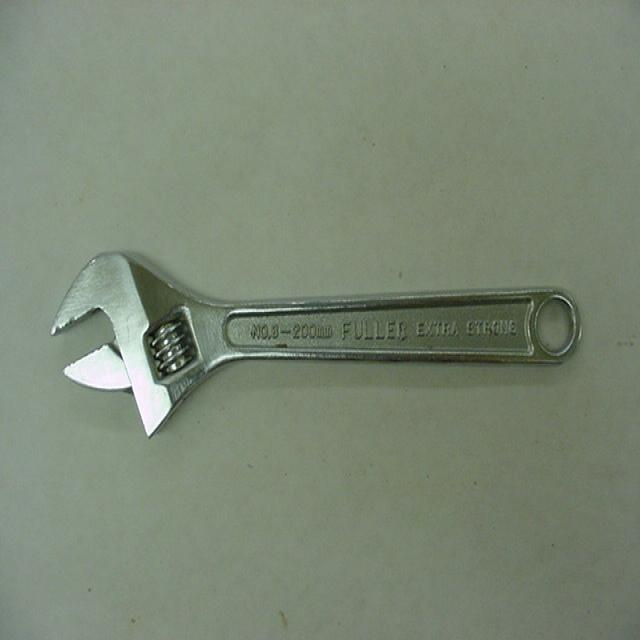wrench: (46, 241, 584, 440)
